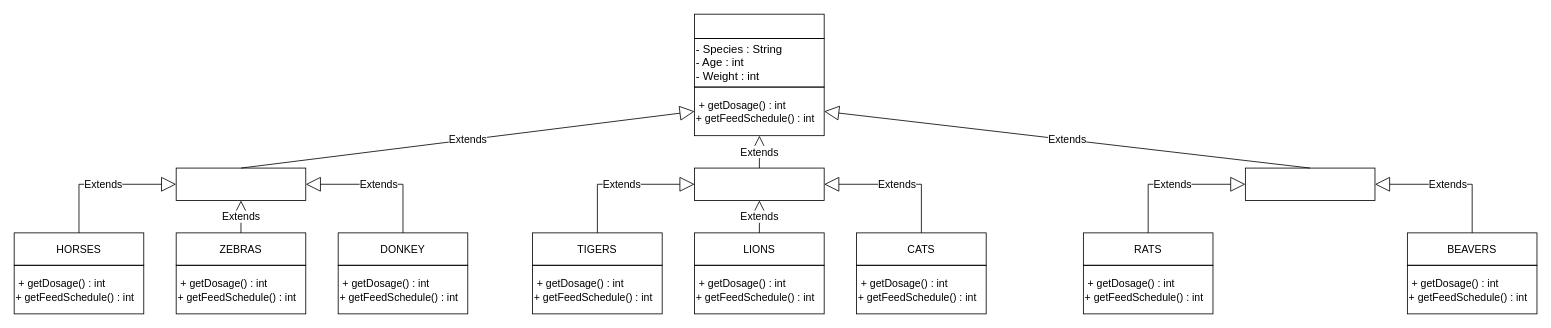
The diagram is 1551 pixels wide and 328 high, and some of its shapes have lost their labels. The centre of each missing label's shape, as x and y in pixels:
Animales: point (759, 25)
Equidae: point (240, 183)
Felidae: point (759, 183)
Rodent: point (1310, 183)
